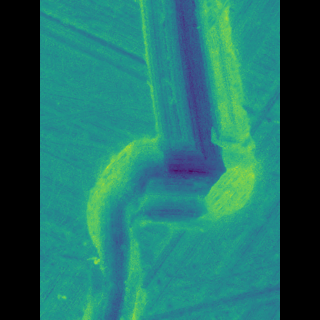Loch: (96, 0, 233, 320)
